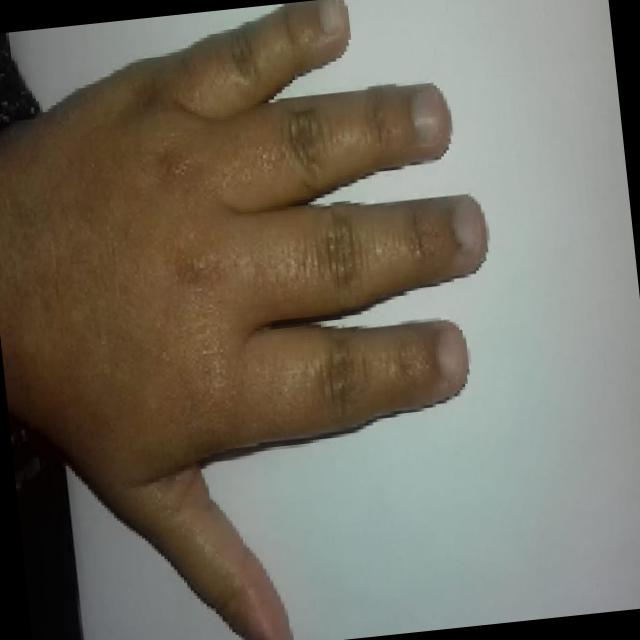Nail: (410, 83, 451, 144), (450, 192, 486, 254), (436, 320, 467, 378), (318, 0, 348, 33)
